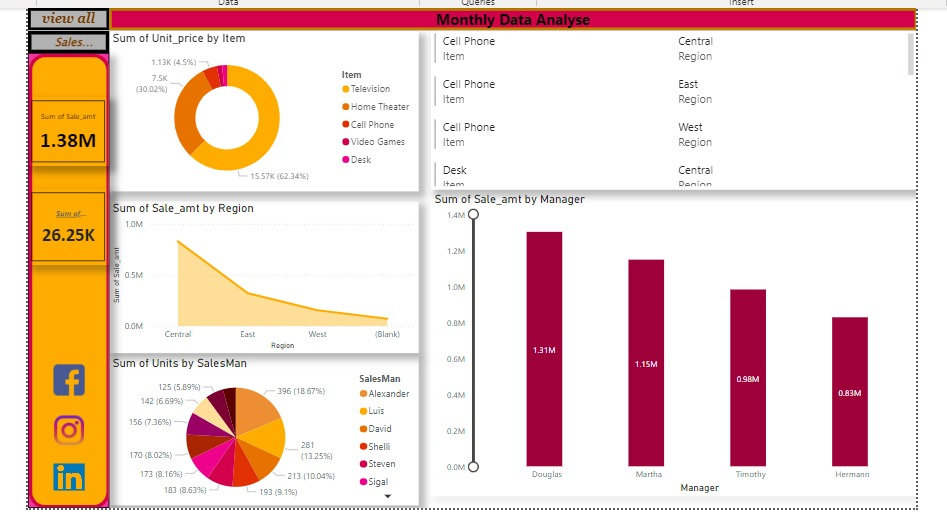

What the dashboard file says about the page in this screenshot:
{"tool":"powerbi","page":{"name":"Page 1","canvas":[1280,720],"ordinal":0},"visuals":[{"type":"pieChart","fields":{"Category":["SaleData.SalesMan"],"Y":["SaleData.Units"]},"box":[116.6,501.1,446.4,214.6],"z":0},{"type":"areaChart","fields":{"Category":["Sales Data.Region"],"Y":["Sales Data.Sale_amt"]},"box":[116.2,277.5,446.2,218.8],"z":1000},{"type":"ribbonChart","fields":{"Y":["Sales Data.Sale_amt"],"Category":["SaleData.Manager"]},"box":[580.3,265,699.8,437.8],"z":2000},{"type":"donutChart","fields":{"Category":["SaleData.Item"],"Y":["SaleData.Unit_price"]},"box":[116.2,32.5,446.2,231.2],"z":3000},{"type":"actionButton","box":[0,0,116.6,31.7],"z":6000},{"type":"multiRowCard","fields":{"Values":["SaleData.Item","Sales Data.Region"]},"box":[580.3,31.7,699.8,230.4],"z":7000},{"type":"actionButton","box":[0,33.1,116.6,31.7],"z":8000},{"type":"shape","box":[0,64.8,116.6,655.2],"z":9000},{"type":"shape","box":[116.6,0,1163.5,31.7],"z":10000},{"type":"image","box":[31.7,650.9,54.7,49],"z":11000},{"type":"image","box":[31.7,501.1,54.7,67.7],"z":12000},{"type":"image","box":[31.7,581.8,54.7,53.3],"z":13000},{"type":"cardVisual","fields":{"Data":["Sales Data.Sale_amt"]},"box":[0,128.2,116.6,99.4],"z":14000},{"type":"cardVisual","fields":{"Data":["Sales Data.Unit_price"]},"box":[0,260.6,116.6,109.4],"z":15000}]}

Visuals, with their boxes in screenshot pixels (x1, y1, x2, y2):
pieChart - SaleData.SalesMan x SaleData.Units: (107,359,422,510)
areaChart - Sales Data.Region x Sales Data.Sale_amt: (107,201,422,355)
ribbonChart - Sales Data.Sale_amt x SaleData.Manager: (434,192,928,501)
donutChart - SaleData.Item x SaleData.Unit_price: (107,28,422,191)
actionButton: (25,5,107,27)
multiRowCard - SaleData.Item x Sales Data.Region: (434,27,928,190)
actionButton: (25,28,107,51)
shape: (25,51,107,513)
shape: (107,5,928,27)
image: (47,464,86,499)
image: (47,359,86,406)
image: (47,416,86,453)
cardVisual - Sales Data.Sale_amt: (25,95,107,166)
cardVisual - Sales Data.Unit_price: (25,189,107,266)
